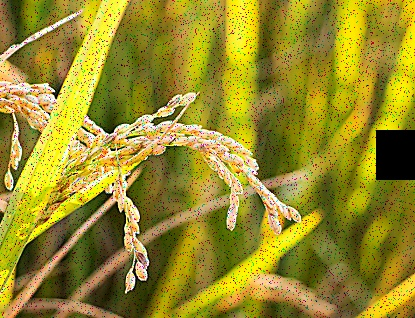rice: (63, 88, 299, 297)
